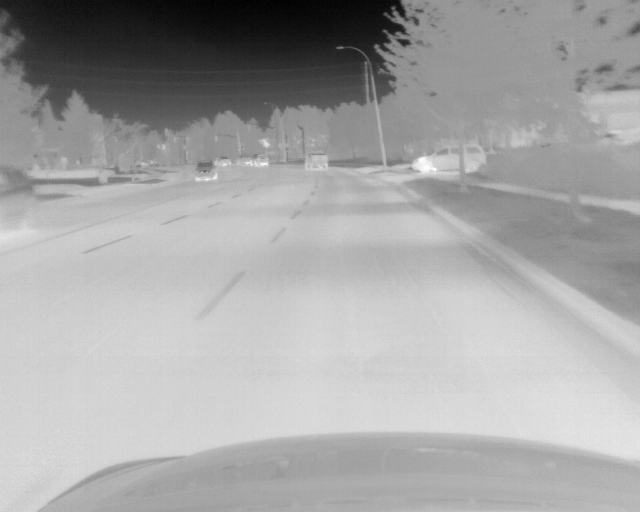car: (412, 142, 486, 174), (2, 166, 36, 231), (195, 160, 218, 182), (305, 151, 329, 170), (253, 154, 268, 167), (239, 155, 254, 166), (218, 156, 231, 166)
